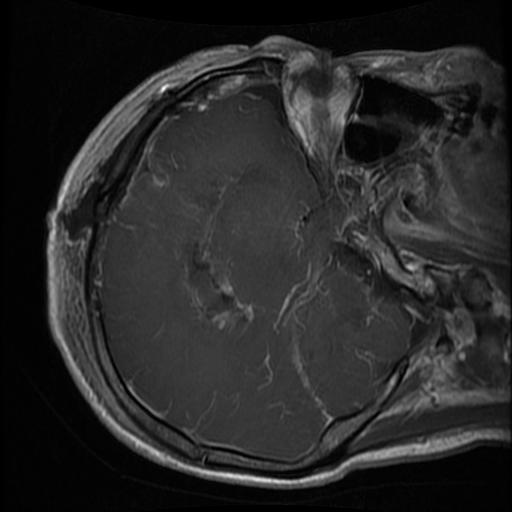glioma: (190, 233, 251, 327)
